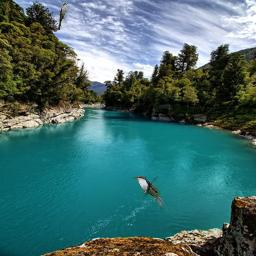Cuckoo: (133, 176, 168, 211), (58, 3, 68, 30)
